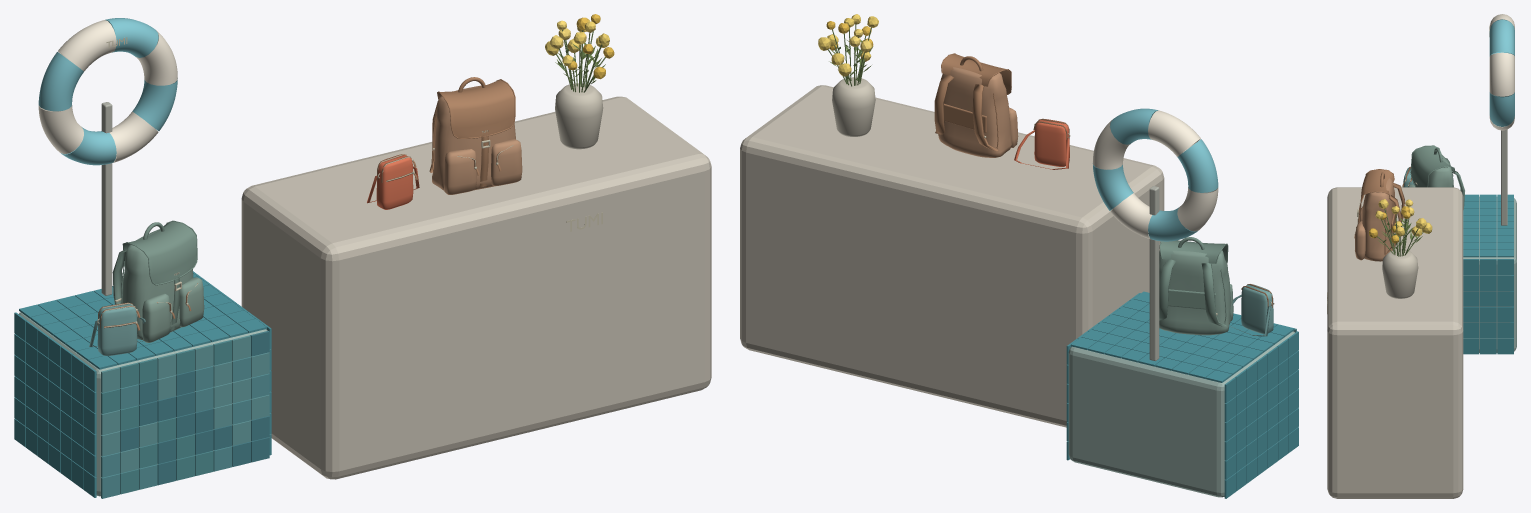
File: gallery.glb
3 views of the same model, side by side, from view 1: azimuth 30°, elevation 25°; view 2: azimuth 150°, elevation 25°; view 3: azimuth 270°, elevation 25° (orthographic). The views are drawn at different scales.
Parts seen in each view (by area): view 1: TumiGangnamCeramic, TumiGangnamVoyageur, TumiGangnamWovenNylon, TumiGangnamHardware; view 2: TumiGangnamCeramic, TumiGangnamVoyageur, TumiGangnamWovenNylon, TumiGangnamHardware; view 3: TumiGangnamCeramic, TumiGangnamVoyageur, TumiGangnamWovenNylon, TumiGangnamHardware.
Part boxes in pixels (bbox=[...]): TumiGangnamCeramic: bbox=[14, 83, 711, 498]; TumiGangnamVoyageur: bbox=[38, 14, 614, 346]; TumiGangnamWovenNylon: bbox=[97, 85, 522, 355]; TumiGangnamHardware: bbox=[97, 37, 602, 327]; TumiGangnamCeramic: bbox=[740, 77, 1298, 498]; TumiGangnamVoyageur: bbox=[818, 14, 1274, 336]; TumiGangnamWovenNylon: bbox=[938, 67, 1273, 335]; TumiGangnamHardware: bbox=[984, 121, 1272, 360]; TumiGangnamCeramic: bbox=[1327, 187, 1516, 498]; TumiGangnamVoyageur: bbox=[1354, 14, 1514, 256]; TumiGangnamWovenNylon: bbox=[1355, 154, 1453, 261]; TumiGangnamHardware: bbox=[1327, 25, 1507, 313].
Bounding box in the file's own units: 2.57 × 1.72 × 0.9765.
